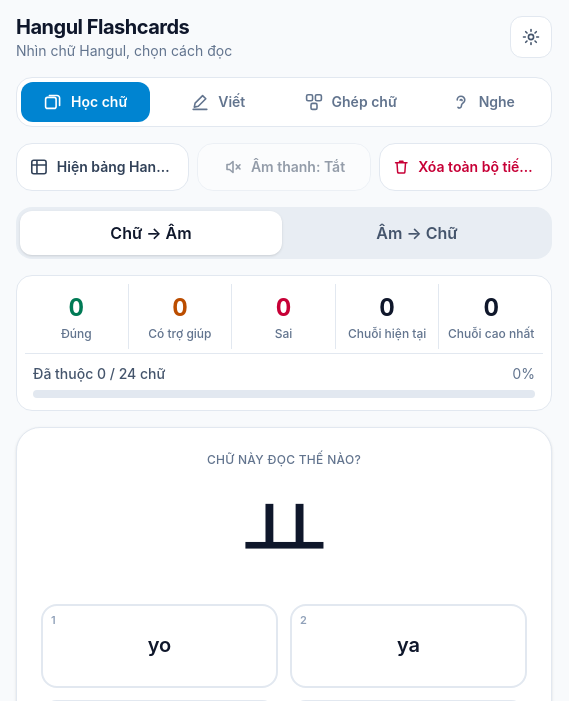
Test: App › regenerates the card and the study set when a category is toggled
The image size is (569, 701).
Click the button named "Mở bảng cài đặt bộ chữ": [531, 37] box [510,16,552,58]
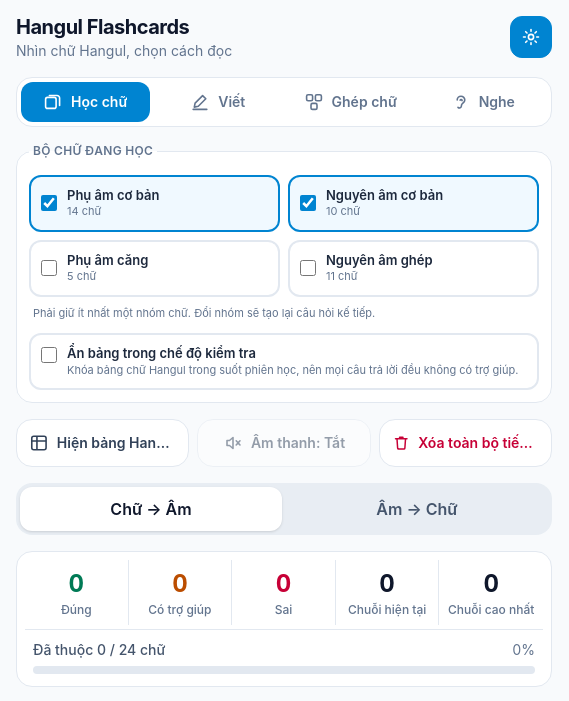
Click the checkbox labelled "Nguyên âm cơ bản 10 chữ": [308, 203] box [300,195,316,211]
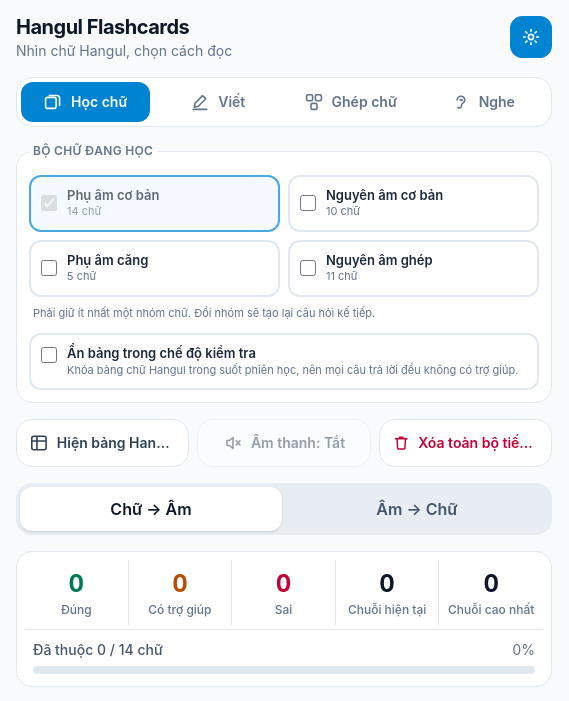
expect the text "Đã thuộc 0 / 14 chữ" is shown: met, box [33,640,163,660]
